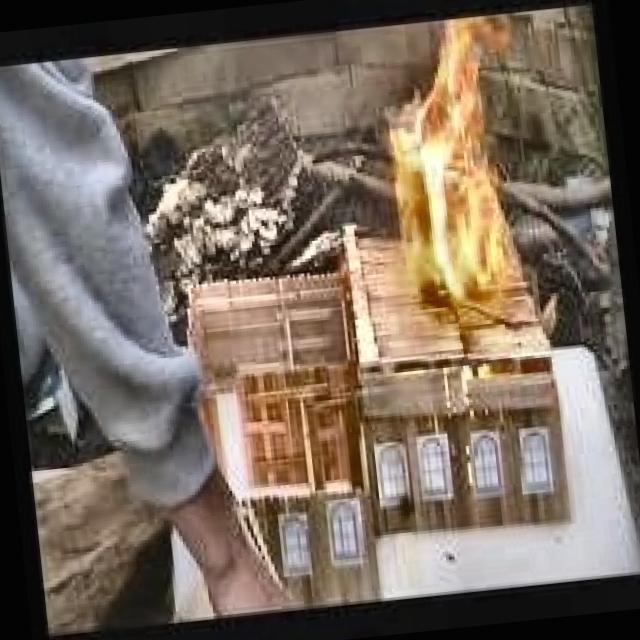fire: (357, 12, 569, 343)
